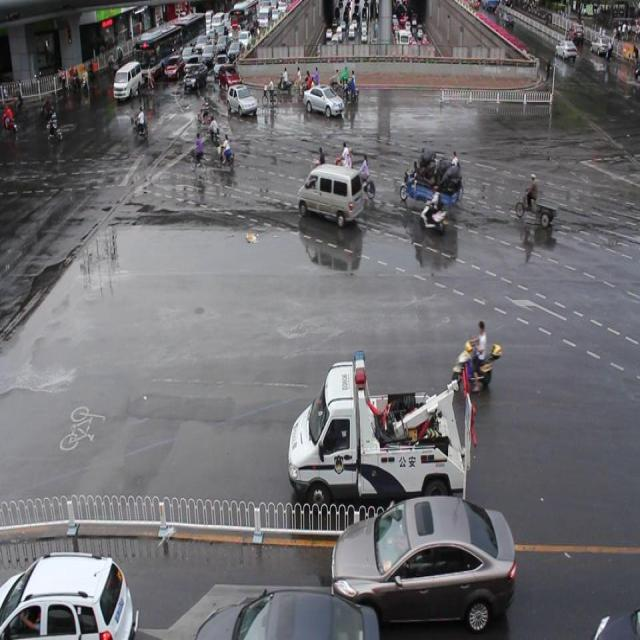bus: (287, 352, 473, 518)
car: (330, 494, 514, 631), (0, 547, 131, 640), (198, 585, 380, 640), (301, 85, 343, 120), (227, 84, 257, 122)
truck: (297, 163, 361, 226)
